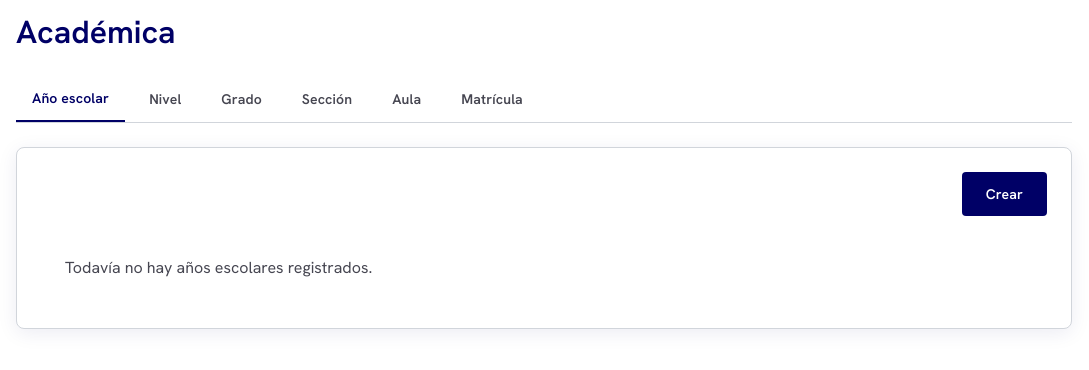
it: AcademicaPage › [16.2] hacer click en la pestaña "Grado" renderiza su panel y desmonta el de Años
The width and height of the screenshot is (1089, 370).
Click the tab "Grado" at (242, 99), box [205,76,278,122]
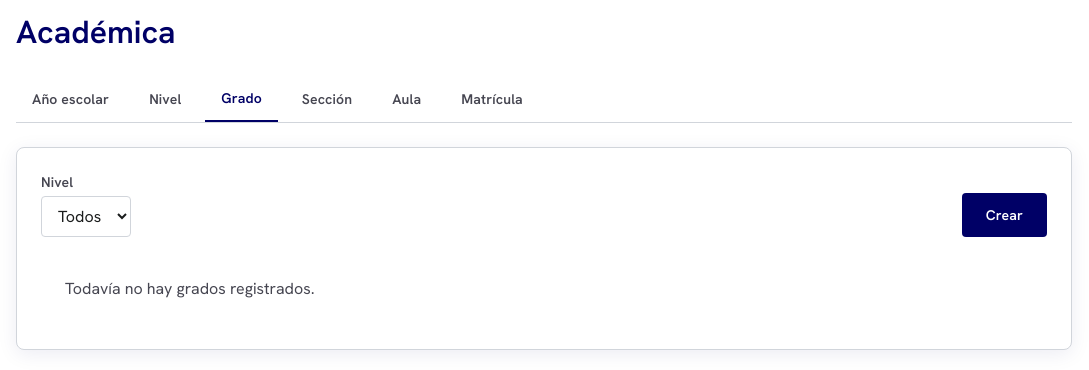
Expected: the text "Todavía no hay grados registrados." is shown, [65,278,314,299]
Expected: the text "Todavía no hay años escolares registrados." is gone
